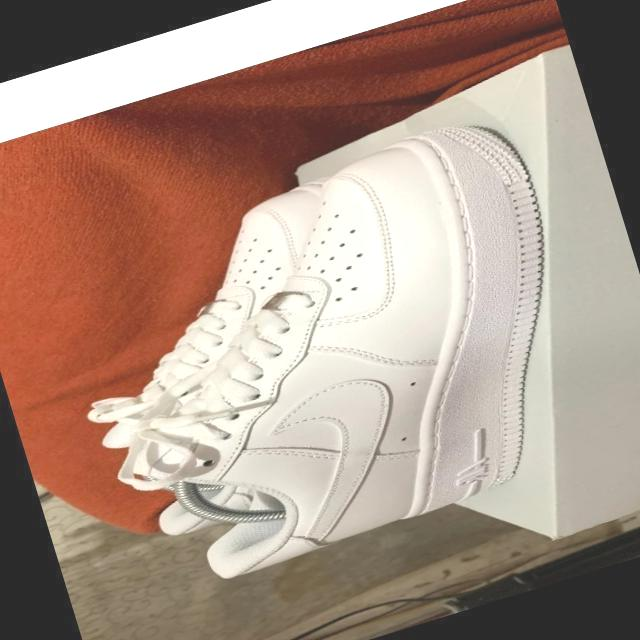nike_original_airforce: (100, 101, 640, 592), (44, 168, 419, 526)
